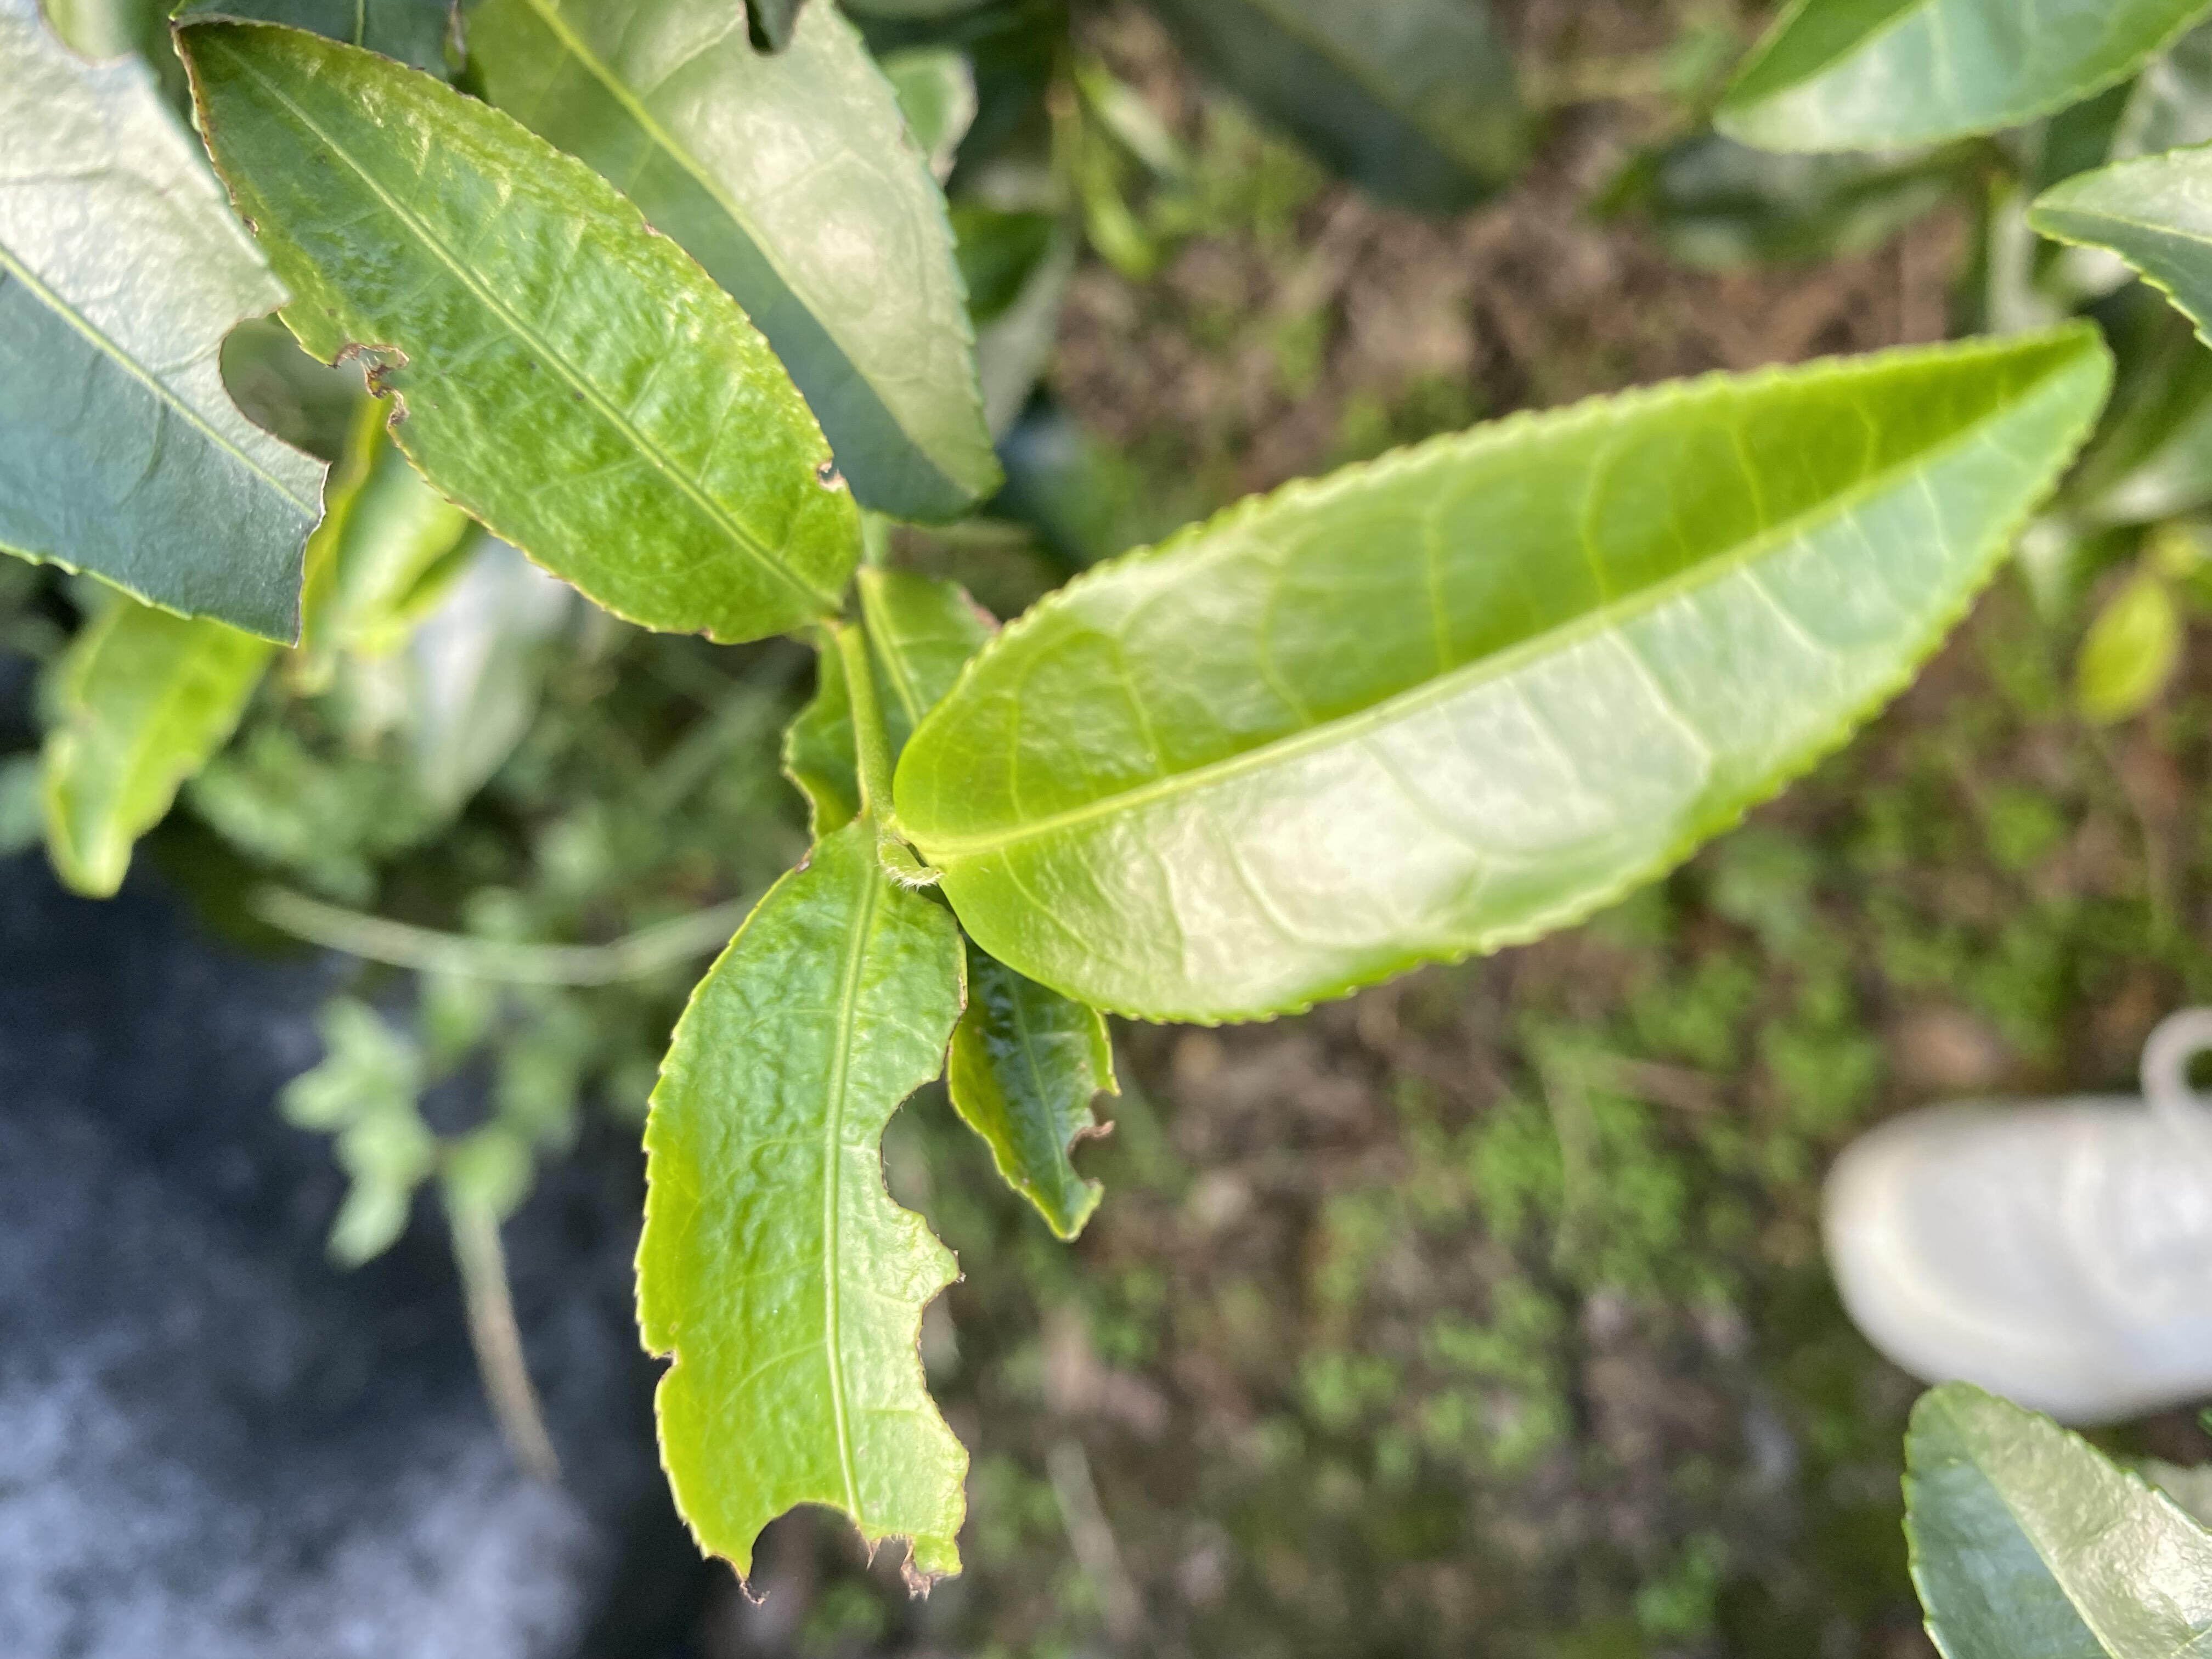chihuo_high: (171, 16, 866, 647), (627, 823, 970, 1605), (3, 3, 334, 647)
healthy: (894, 324, 2121, 1030)
